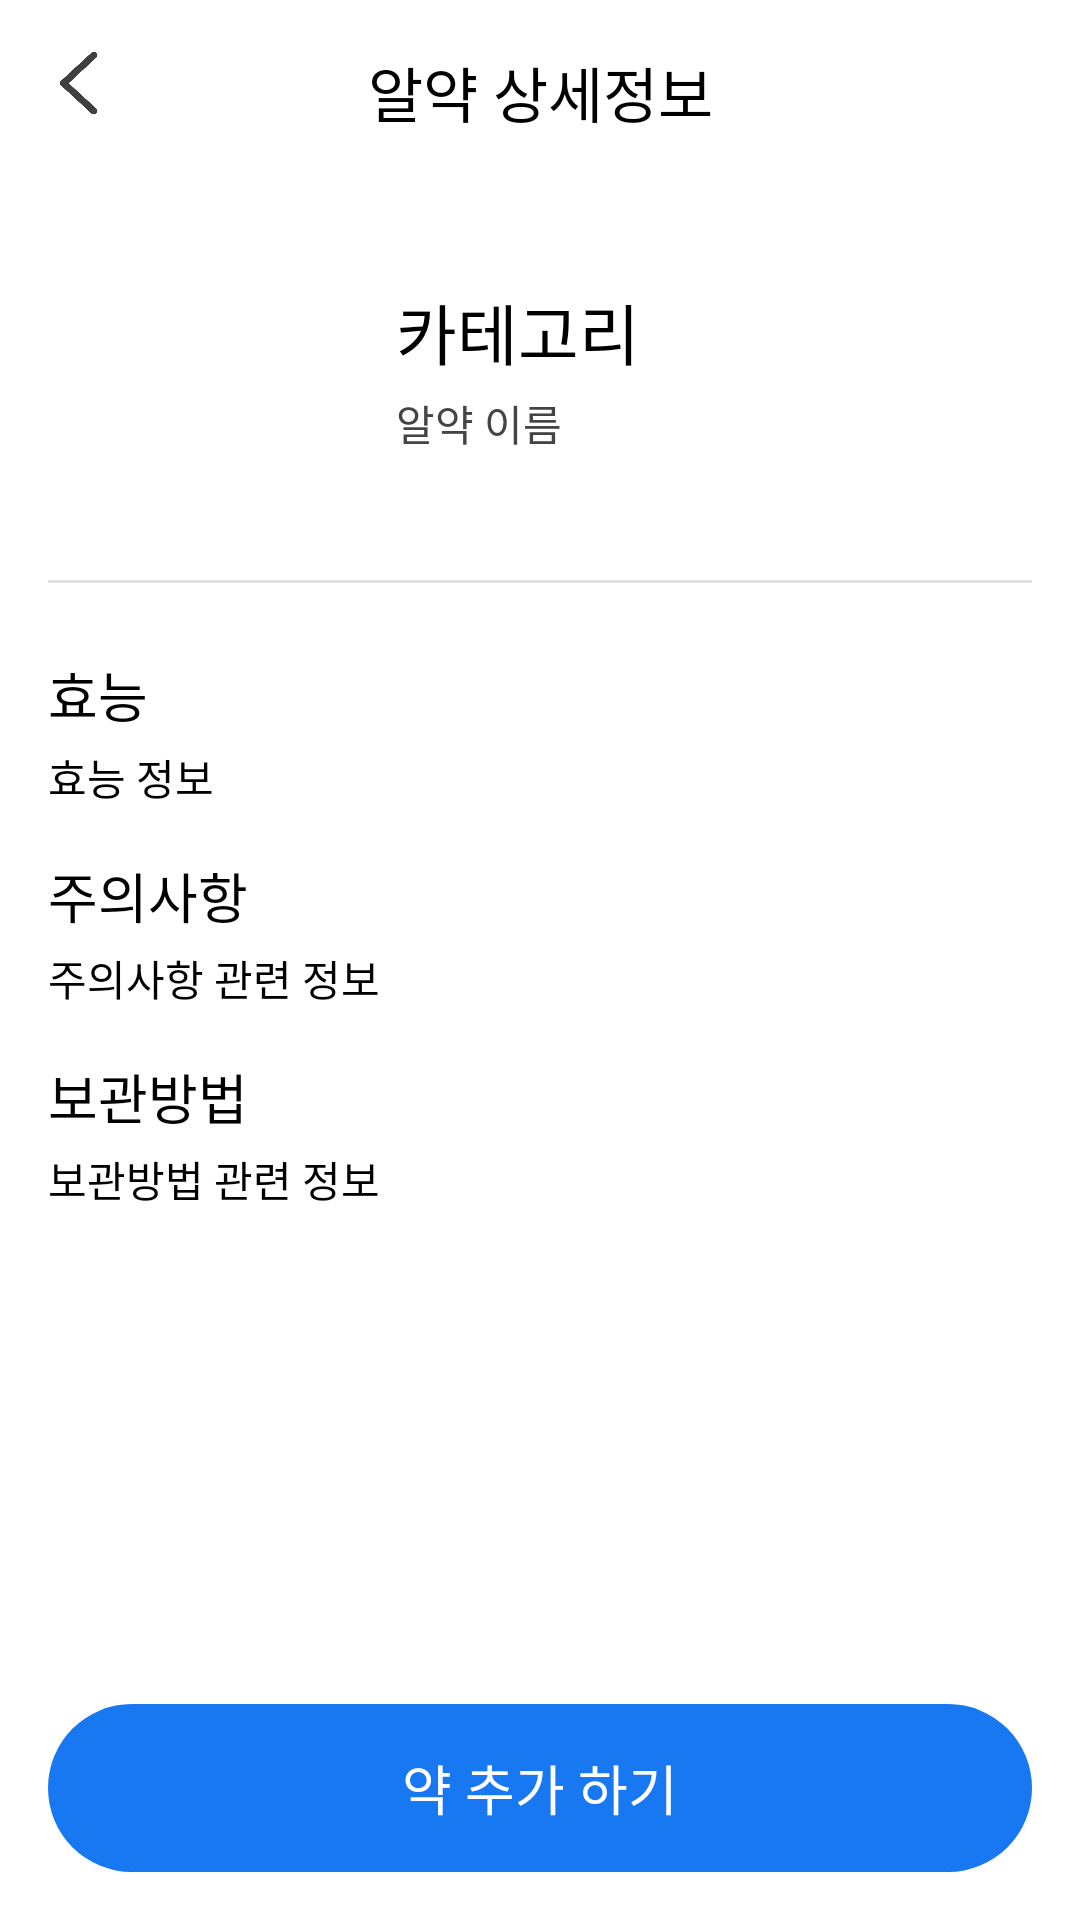

Locate icon controls on the screen. Image size 1080w x 1920h, boxes as (x1, y1, x2, y2).
return: (60, 52, 98, 114)
